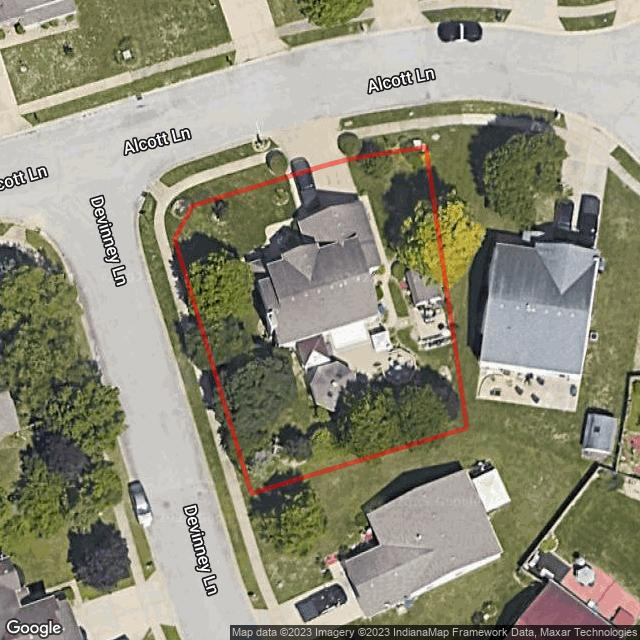Driveway: (360, 195, 398, 327), (287, 162, 362, 219), (414, 309, 450, 349), (265, 218, 294, 246), (395, 316, 410, 329)
Extra Driveway: (272, 116, 345, 174)
Extra Lawn: (165, 158, 287, 236), (160, 137, 277, 188), (341, 105, 425, 132), (345, 129, 427, 156)
Extra Sidewalk: (157, 150, 278, 209), (342, 117, 426, 139)
House: (248, 200, 384, 346)
Other: (326, 311, 416, 377), (405, 262, 444, 322), (310, 361, 356, 411), (296, 335, 331, 371)
